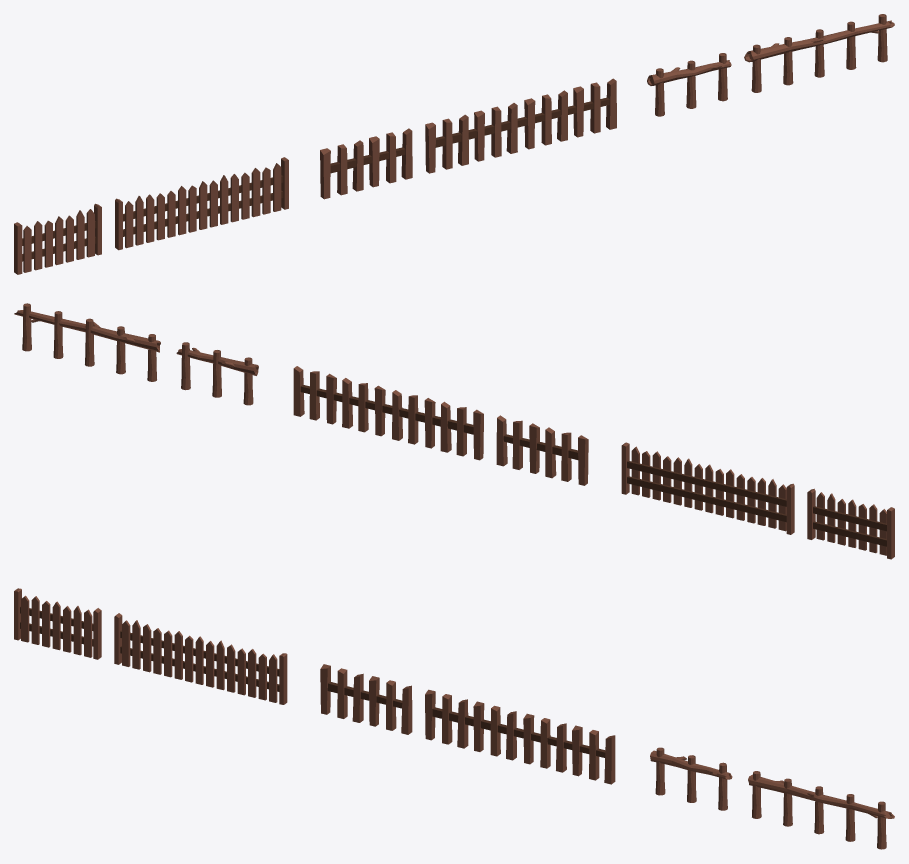
File: Fences2.fbx
3 renders of one model, top to bottom at view 1: azimuth 30°, elevation 25°; view 2: azimuth 150°, elevation 25°; view 3: azimuth 330°, elevation 25°, orthographic.
Parts seen in each view (by area): view 1: Fence_Type 3_02, Fence_Type 4_02, Fence_Type 3_01, Fence_Type 4_01, Fence_Type 5_02, Fence_Type 5_01; view 2: Fence_Type 3_02, Fence_Type 4_02, Fence_Type 3_01, Fence_Type 4_01, Fence_Type 5_02, Fence_Type 5_01; view 3: Fence_Type 3_02, Fence_Type 4_02, Fence_Type 3_01, Fence_Type 4_01, Fence_Type 5_02, Fence_Type 5_01.
Part boxes in pixels (x1,y1,x2,y2): Fence_Type 3_02: (115,157,288,250); Fence_Type 4_02: (425,78,616,173); Fence_Type 3_01: (14,203,101,274); Fence_Type 4_01: (320,128,412,199); Fence_Type 5_02: (744,14,894,92); Fence_Type 5_01: (647,53,731,116); Fence_Type 3_02: (621,442,794,534); Fence_Type 4_02: (293,366,483,460); Fence_Type 3_01: (807,488,894,559); Fence_Type 4_01: (496,415,588,485); Fence_Type 5_02: (14,303,160,381); Fence_Type 5_01: (176,342,258,405); Fence_Type 3_02: (114,613,287,704); Fence_Type 4_02: (425,689,615,784); Fence_Type 3_01: (14,588,101,659); Fence_Type 4_01: (320,664,412,734); Fence_Type 5_02: (748,771,894,849); Fence_Type 5_01: (650,747,732,810).
Bounding box in the file's own units: 1913 × 103 × 32.63.
